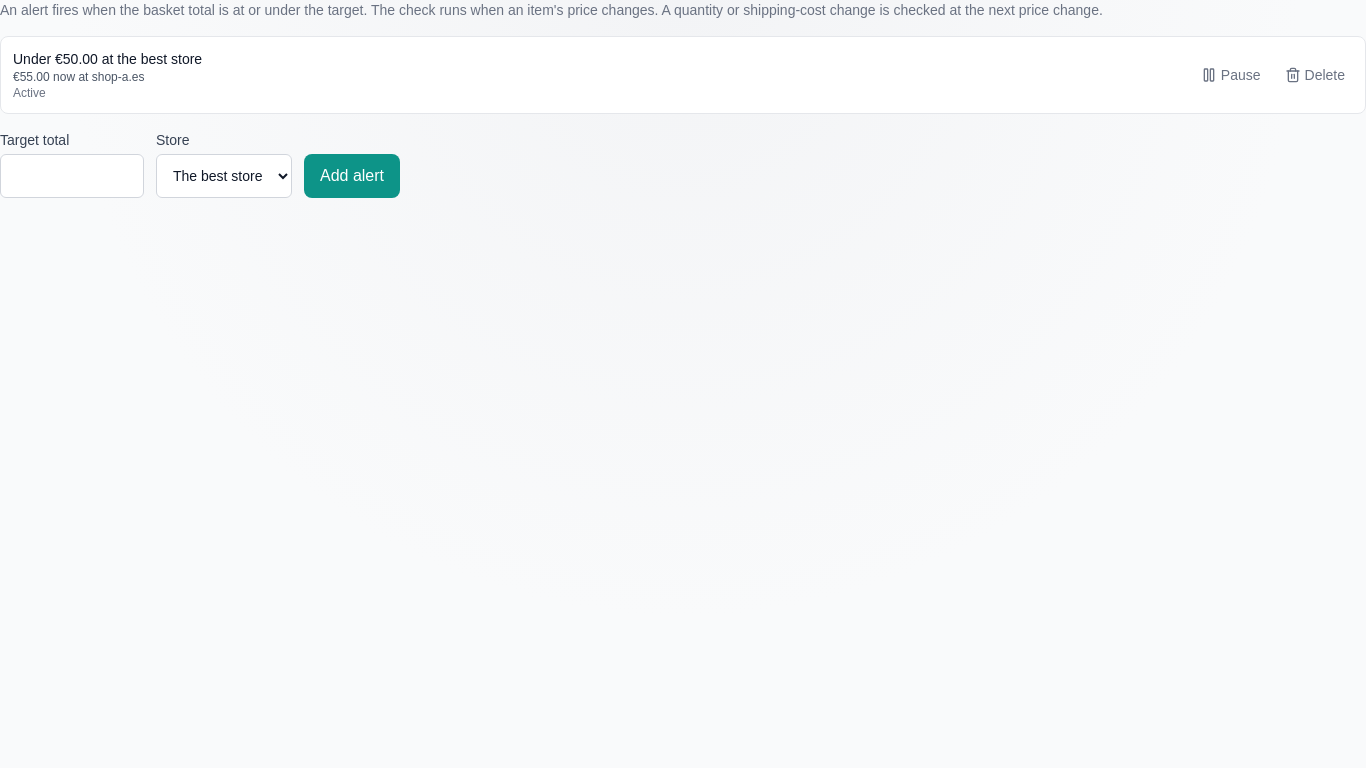
Scenario: BasketAlerts › should delete an alert when the delete is confirmed
Click the button with aria-label "Delete alert" at (1315, 75), box [1276,53,1353,97]
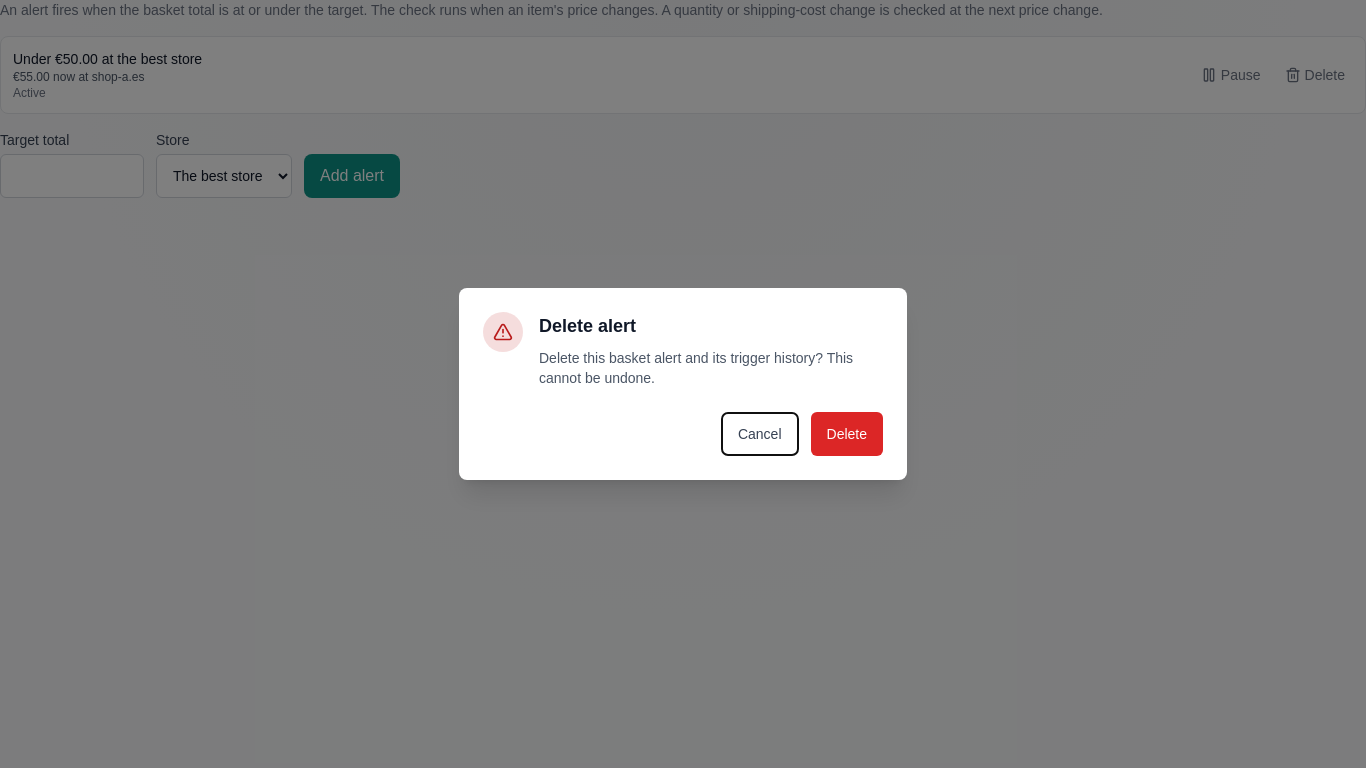
Click the button "Delete" at (847, 434), box [810,412,883,456]
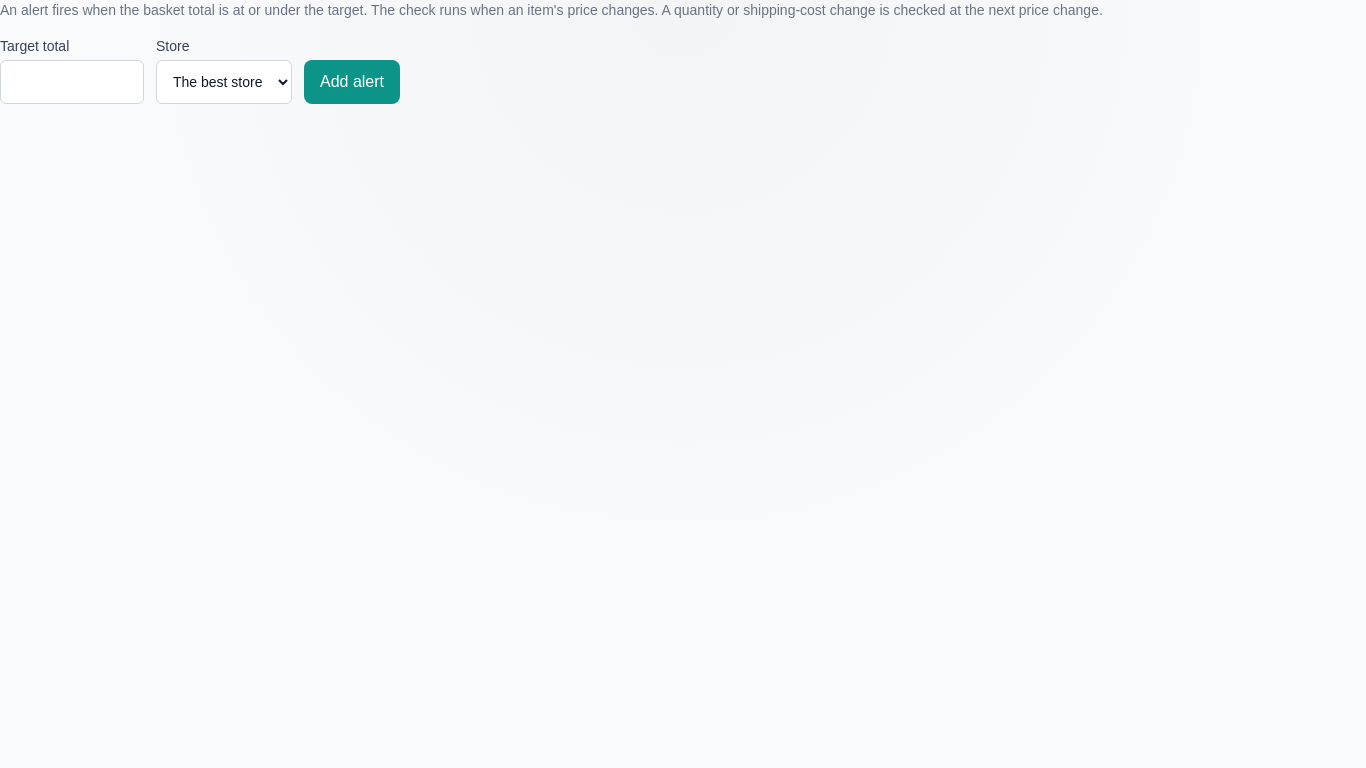
Expected: the list item with test id "basket-alert-row" is gone
